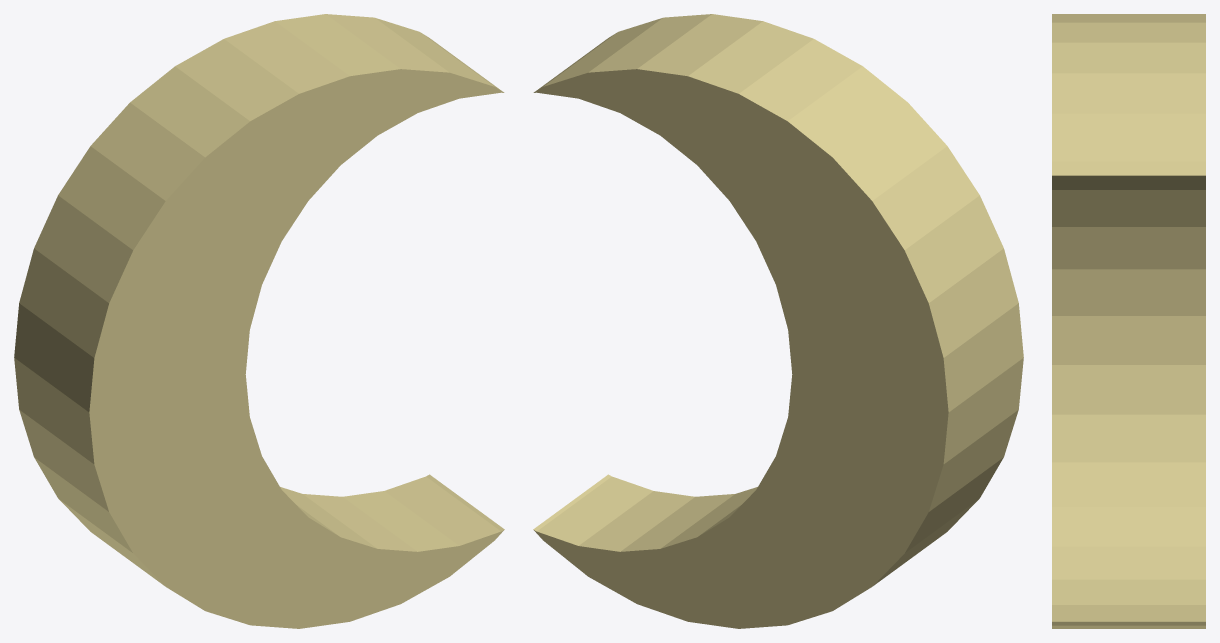
The model's file is deco_crescent_lite.glb.
The picture shows the model from 3 angles, left to right: view 1: azimuth 30°, elevation 25°; view 2: azimuth 150°, elevation 25°; view 3: azimuth 270°, elevation 25°; orthographic projection. The views are drawn at different scales.
Visible parts, largest first — view 1: Cylinder; view 2: Cylinder; view 3: Cylinder.
Boxes of the visible parts, left/top/right/bottom form: Cylinder: left=14, top=14, right=504, bottom=628; Cylinder: left=533, top=14, right=1023, bottom=628; Cylinder: left=1052, top=14, right=1205, bottom=628.
Bounding box in the file's own units: 1.59 × 2 × 0.5.
